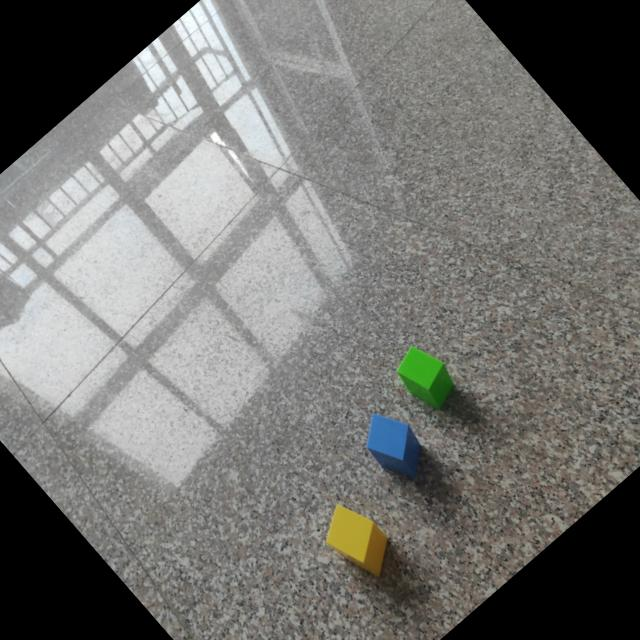blue: (366, 414, 426, 480)
green: (398, 347, 456, 411)
yellow: (325, 505, 393, 578)
